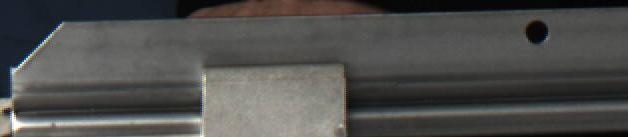cut: (8, 15, 179, 137)
holes: (523, 18, 550, 44)
